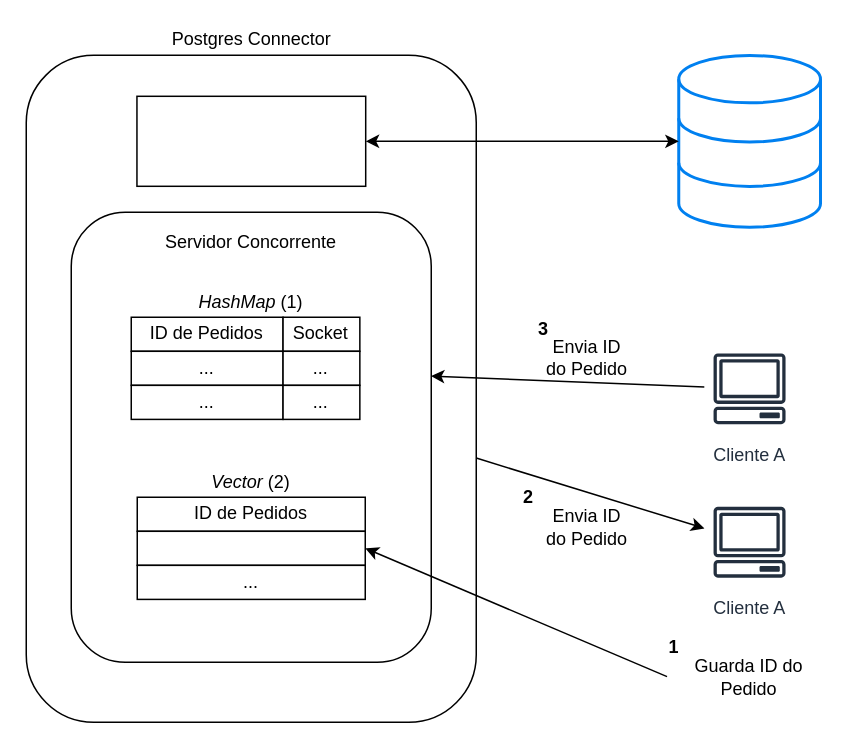
Image size: 858x750. Some labels were removed from this diagram. The shapes that lost their labels are listed below. From the top down, each one's centre as x and y in pixels, then its label:
At point (250, 140): "Conecção à BD".
At point (250, 547): "ID do Pedido".
